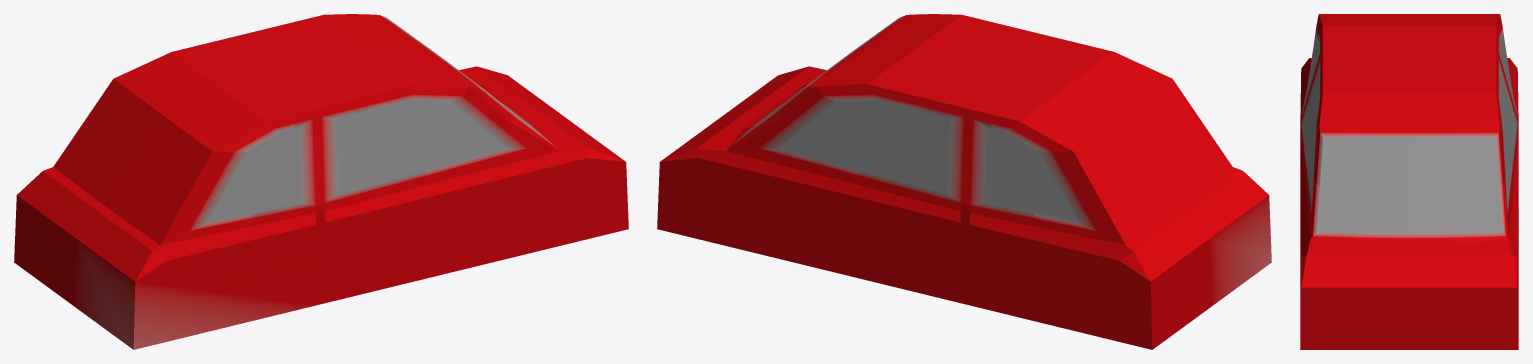
File: car vertexed.fbx
The picture shows the model from 3 angles, left to right: view 1: azimuth 30°, elevation 25°; view 2: azimuth 150°, elevation 25°; view 3: azimuth 270°, elevation 25°; orthographic projection. The views are drawn at different scales.
Visible parts, largest first — view 1: car; view 2: car; view 3: car.
Boxes of the visible parts, x1,y1,x2,y2 form: car: [14, 14, 628, 349]; car: [657, 14, 1271, 349]; car: [1300, 14, 1518, 349].
Bounding box in the file's own units: 275 × 97.85 × 115.
